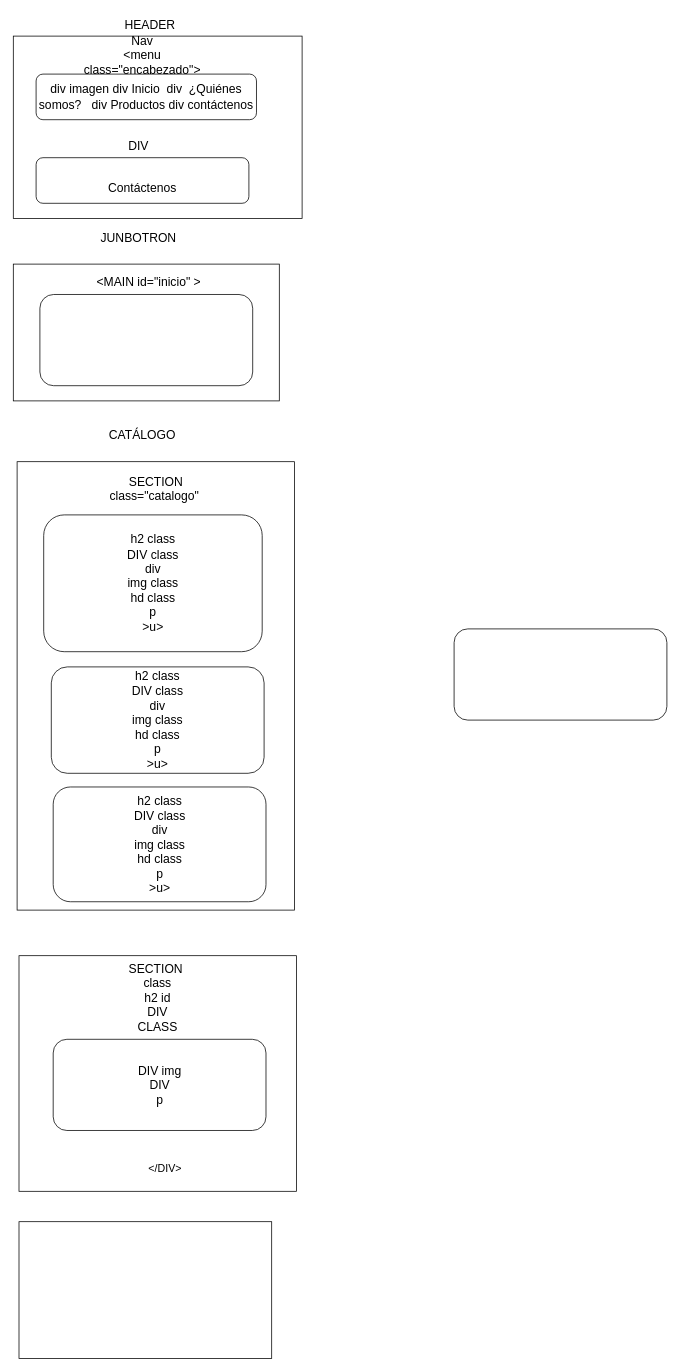
This 680x1372 diagram has some shape labels left out. Here are the shapes that lost their labels. From the top down, the box of each, then its label:
(39, 294, 253, 386): div h1 p form img / class
(18, 1221, 272, 1358): footer nav CLASS a href a href a hrefa href
